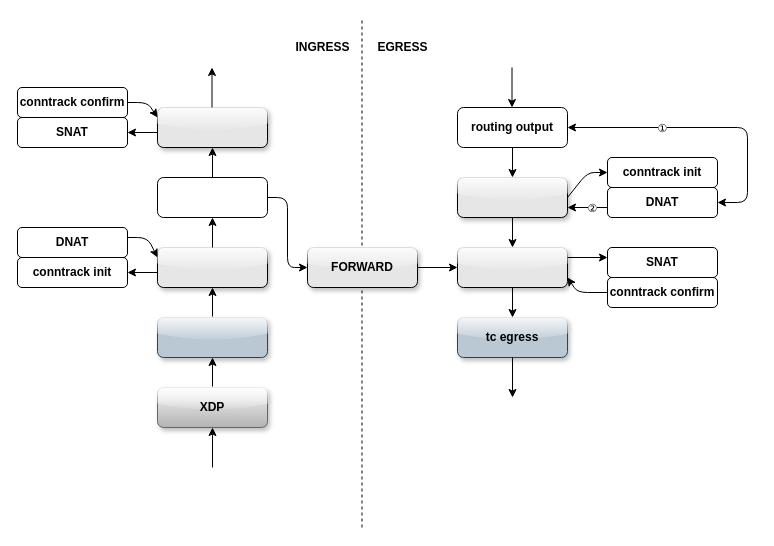
This 774x546 diagram has some shape labels left out. Each missing label, with the centre of its shape:
"LOCAL_IN" belongs at (213,128).
"LOCAL_OUT" belongs at (513,198).
"POST_ROUTING" belongs at (513,268).
"PRE_ROUTING" belongs at (213,268).
"routing input" belongs at (212,197).
"tc ingress" belongs at (213,338).
